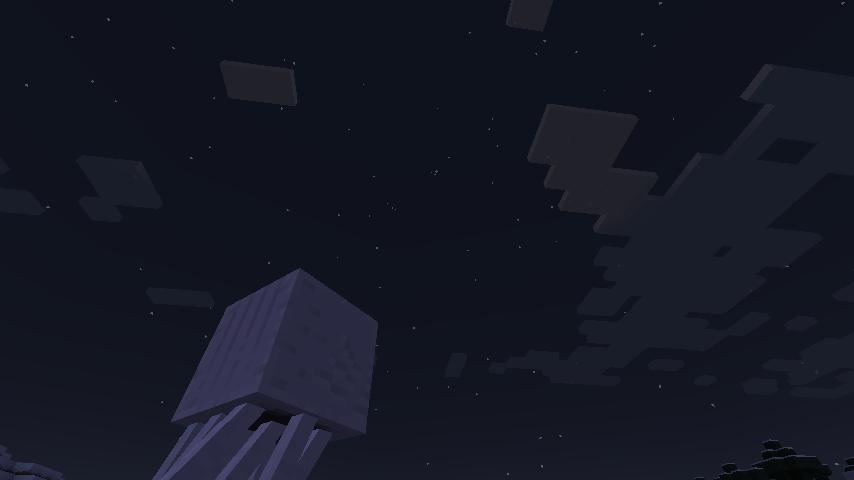ghast: (157, 267, 381, 480)
